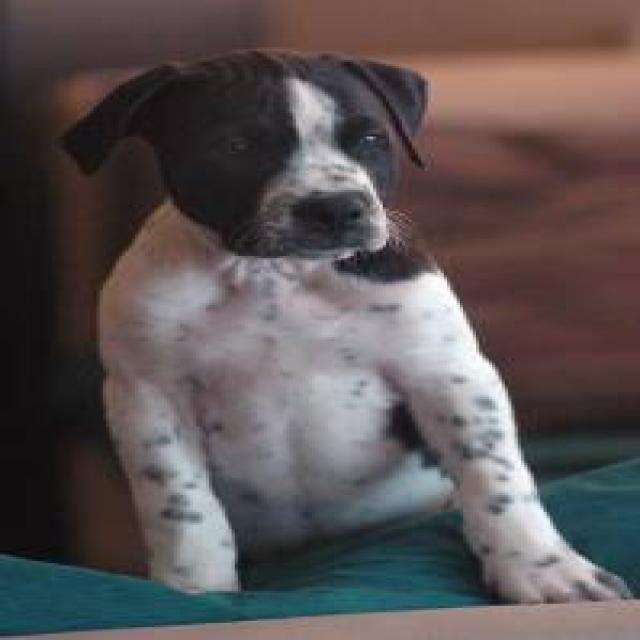dog-american_pit_bull_terrier: (42, 41, 634, 610)
